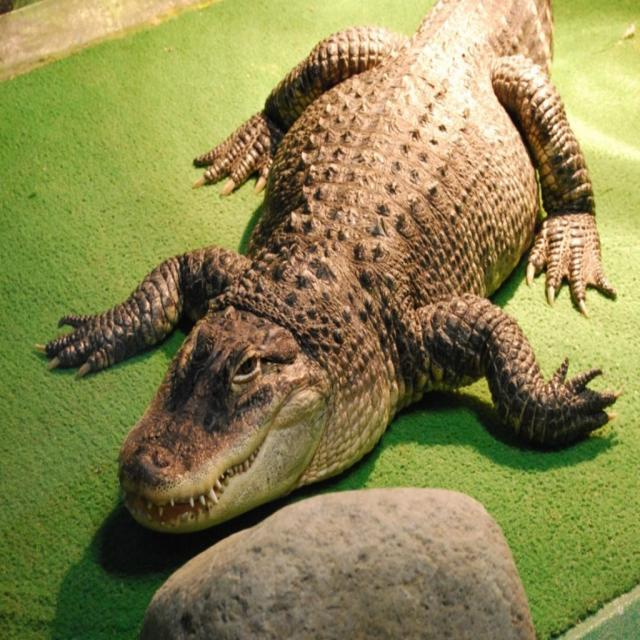crocodile: (14, 0, 639, 558)
